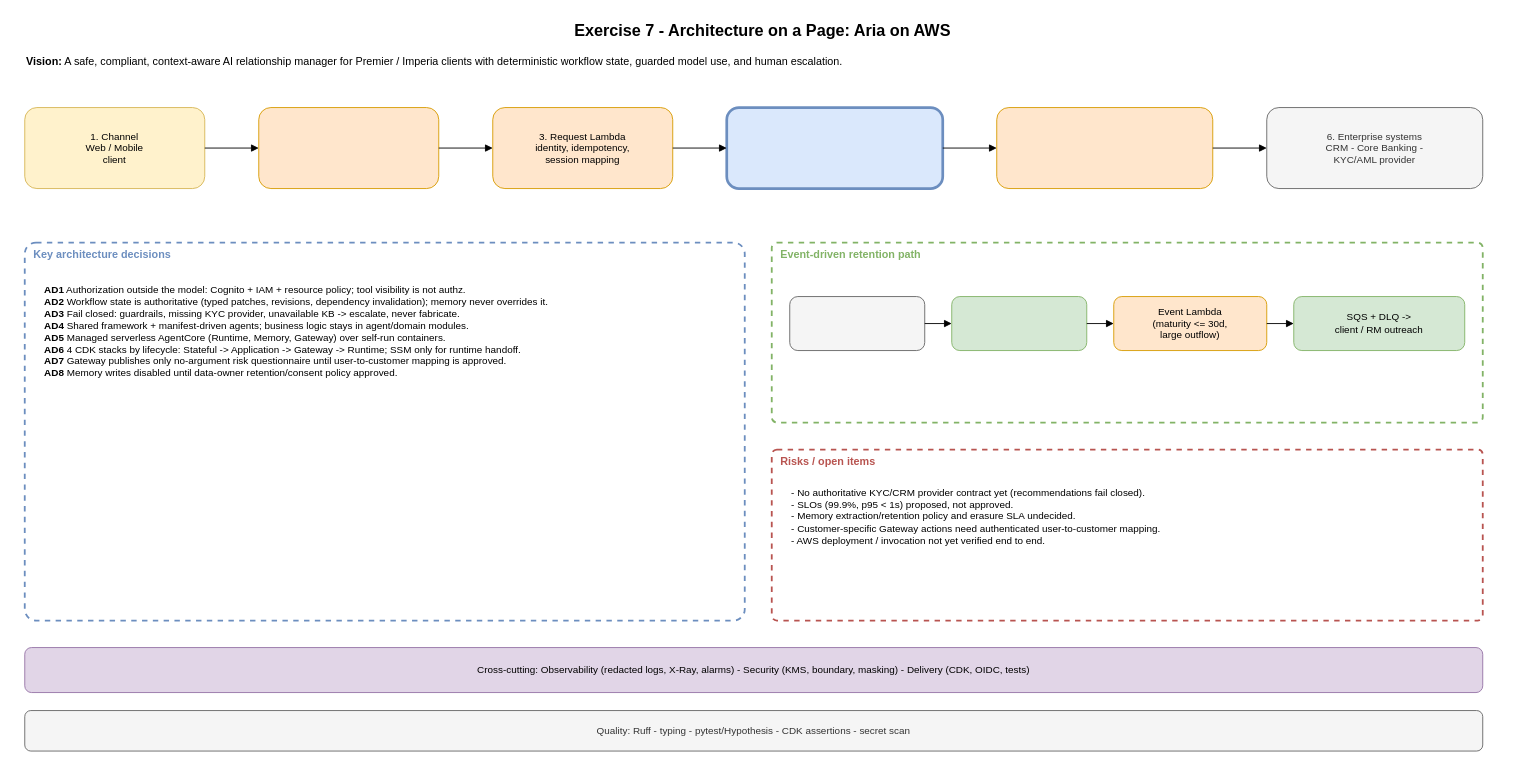
This 1525x767 diagram has some shape labels left out. The shapes that lost their labels are listed below. From the top down, each one's box as (x1, y1, x2, y2) in pixels, then its label:
(258, 107, 439, 189): 2. Edge & AuthN API Gateway + Cognito JWT
(725, 106, 944, 189): 4. AgentCore Runtime Aria agent (Strands) Guardrails - Workflow - Tools
(996, 107, 1213, 189): 5. AI Services Bedrock Claude - Guardrails Knowledge Base - Memory
(789, 296, 925, 351): Banking events
(951, 296, 1087, 351): EventBridge bus
